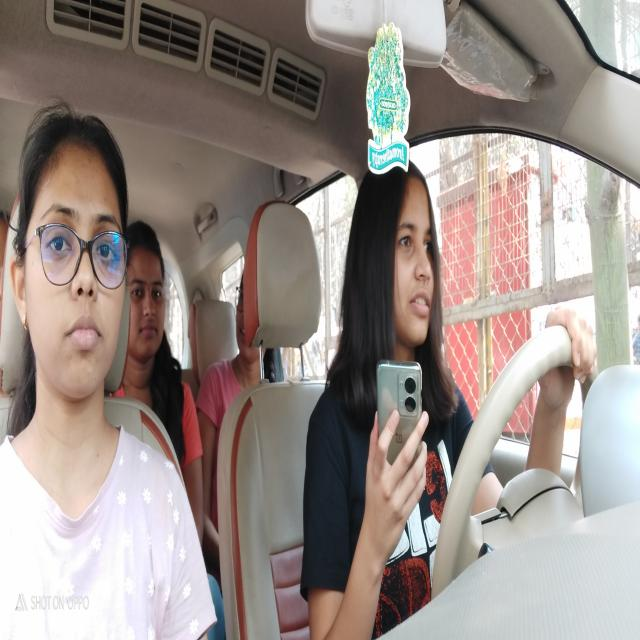mobile: (373, 361, 426, 490)
person: (18, 118, 127, 408), (357, 162, 441, 348), (132, 215, 169, 362), (230, 272, 270, 380)
